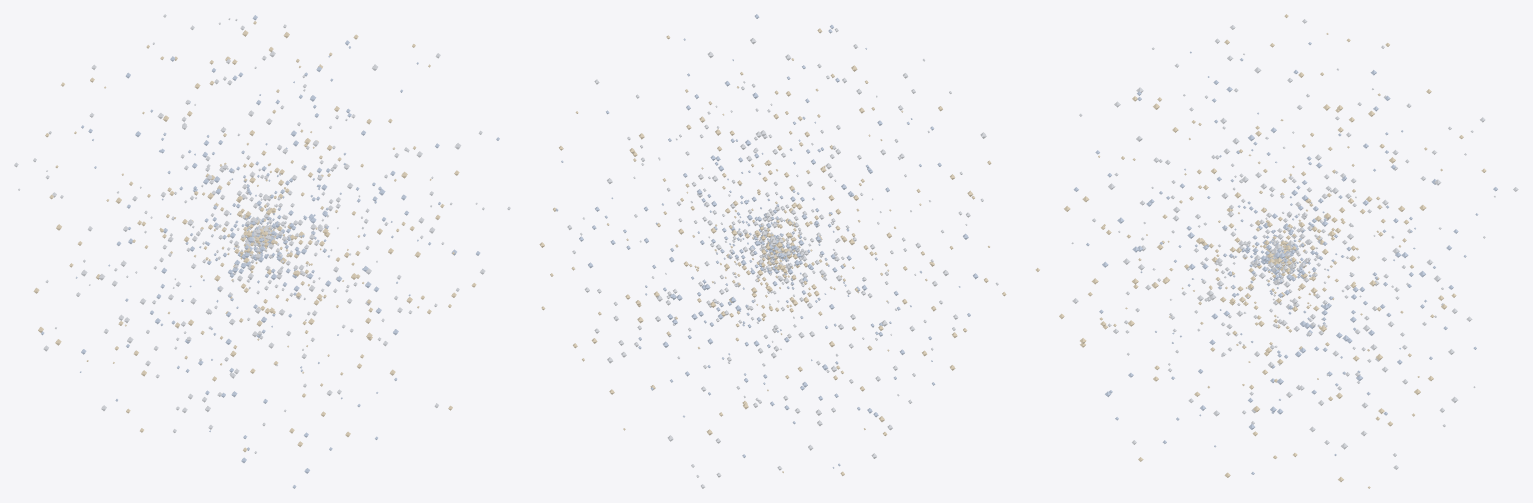
The picture shows the model from 3 angles, left to right: view 1: azimuth 30°, elevation 25°; view 2: azimuth 150°, elevation 25°; view 3: azimuth 270°, elevation 25°; orthographic projection. The views are drawn at different scales.
Bounding box in the file's own units: 5.02 × 4.72 × 4.98.
